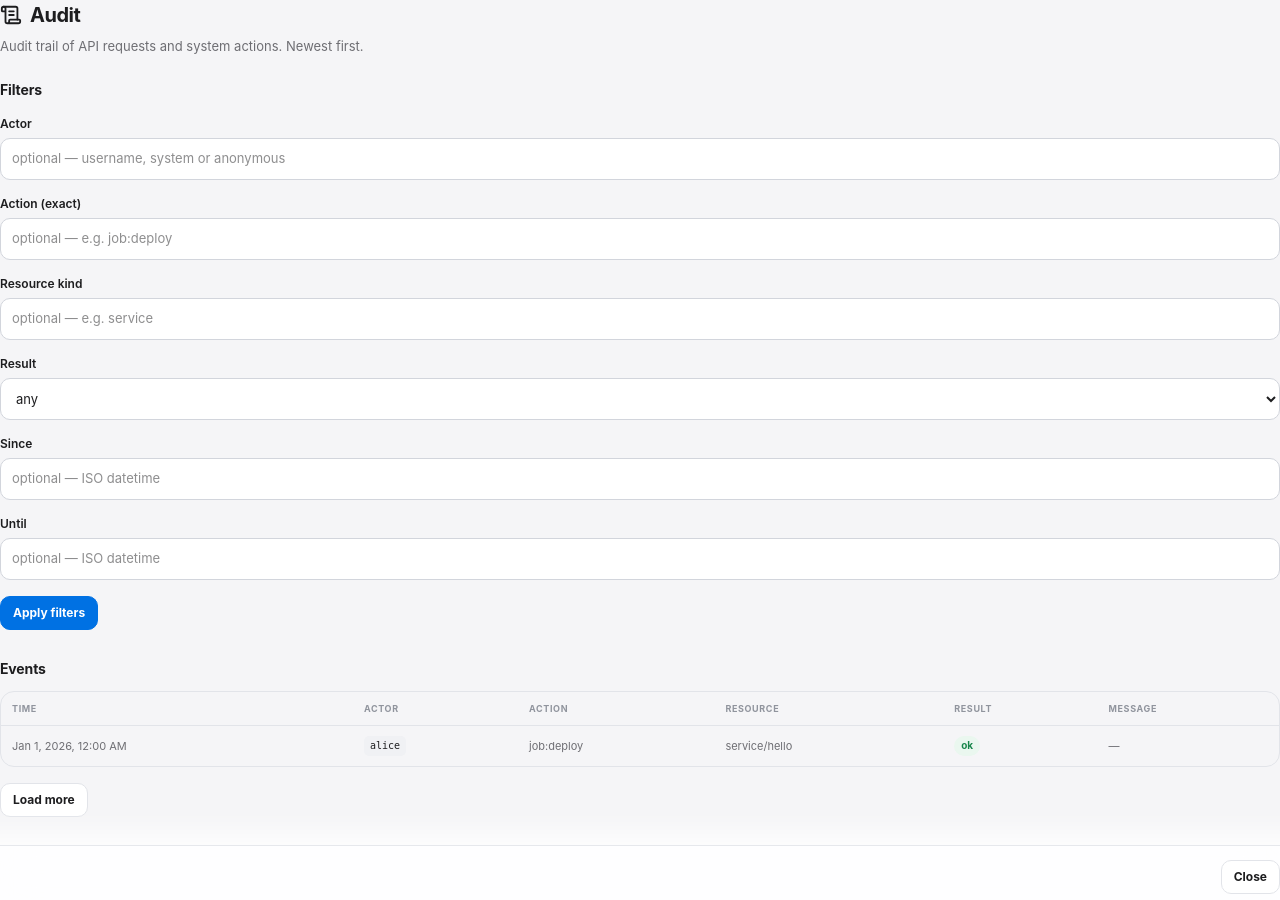
it: AuditTimeline modal › shows Load more and appends the next page
Check: the text "alice" is shown, box [364,736,406,756]
Click the button "Load more" at [44, 800], box [0,782,88,816]
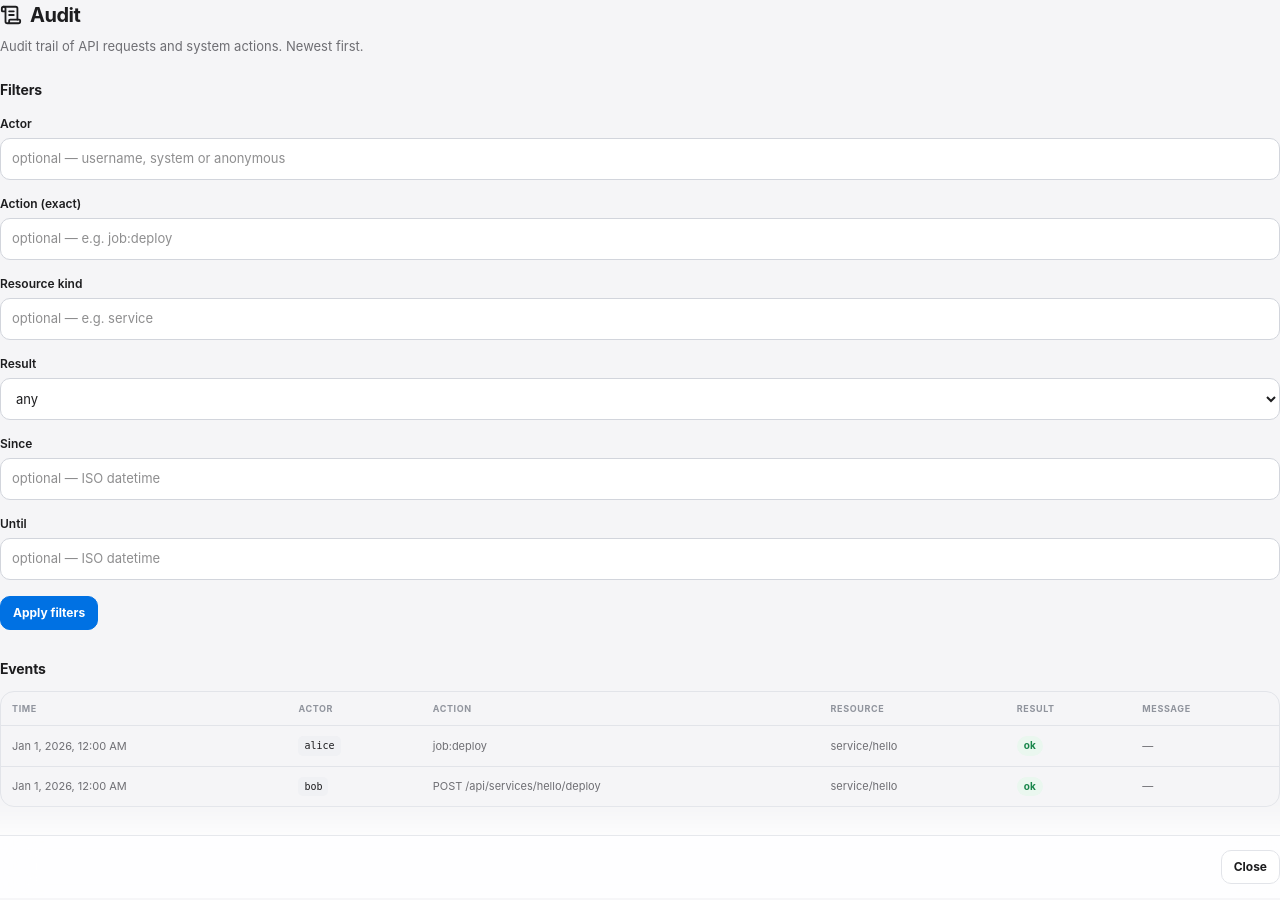
Check: the text "alice" is shown, box [298,736,340,756]
Check: the text "bob" is shown, box [298,776,328,796]
